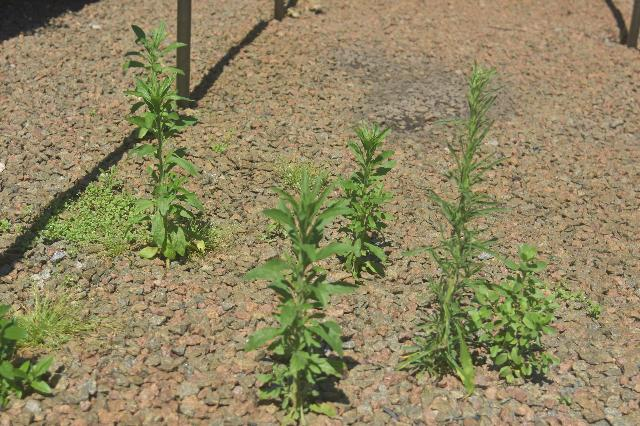MalezaMontesDelPlata: (395, 59, 516, 387), (246, 165, 353, 425), (125, 21, 195, 257), (325, 116, 403, 282), (25, 161, 126, 268), (484, 244, 554, 389), (7, 290, 115, 348), (2, 300, 55, 411)
